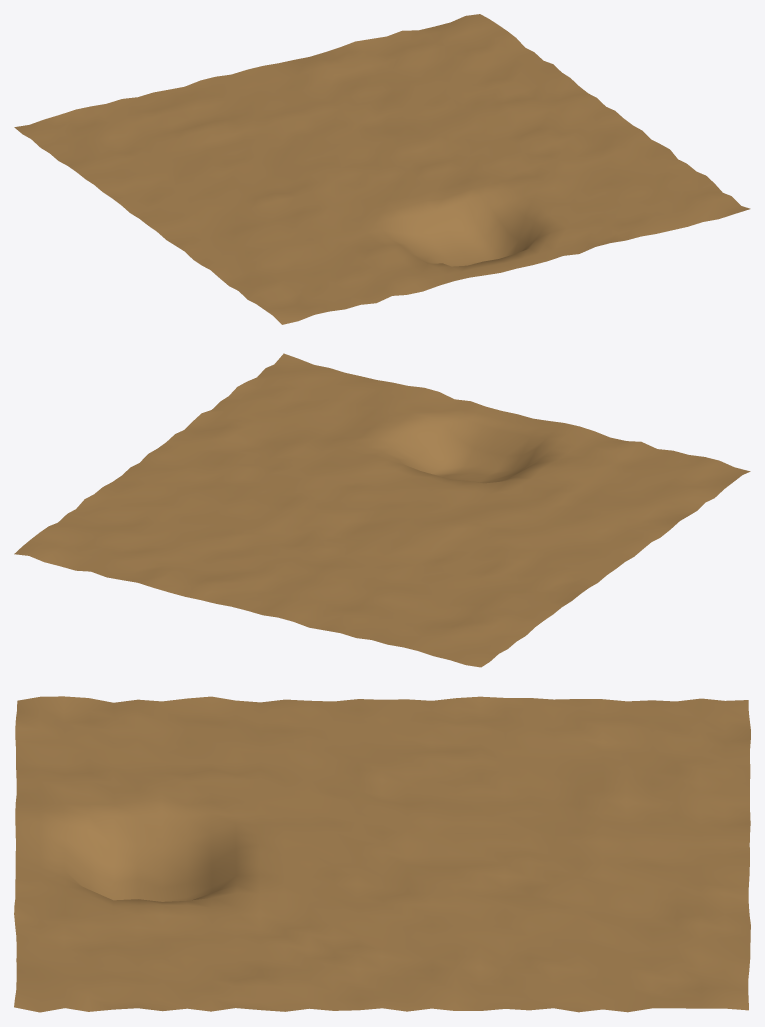
Rendered from Floor.fbx.
3 views of the same model, one above another, from view 1: azimuth 30°, elevation 25°; view 2: azimuth 150°, elevation 25°; view 3: azimuth 270°, elevation 25° (orthographic). The views are drawn at different scales.
Parts seen in each view (by area): view 1: pPlane48; view 2: pPlane48; view 3: pPlane48.
Part boxes in pixels (x1,y1,x2,y2): pPlane48: [14, 14, 750, 324]; pPlane48: [14, 353, 750, 667]; pPlane48: [14, 696, 750, 1012].
Size of the model in its own units: 70.29 by 4.76 by 70.28.
